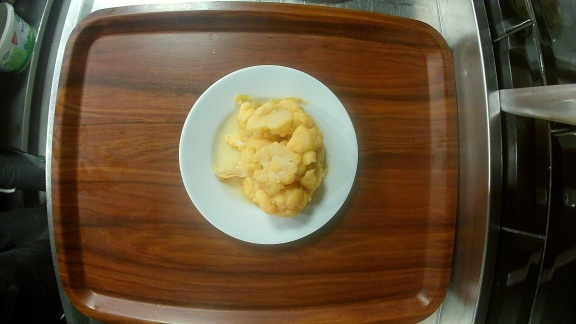karnibahar: (178, 64, 359, 246)
